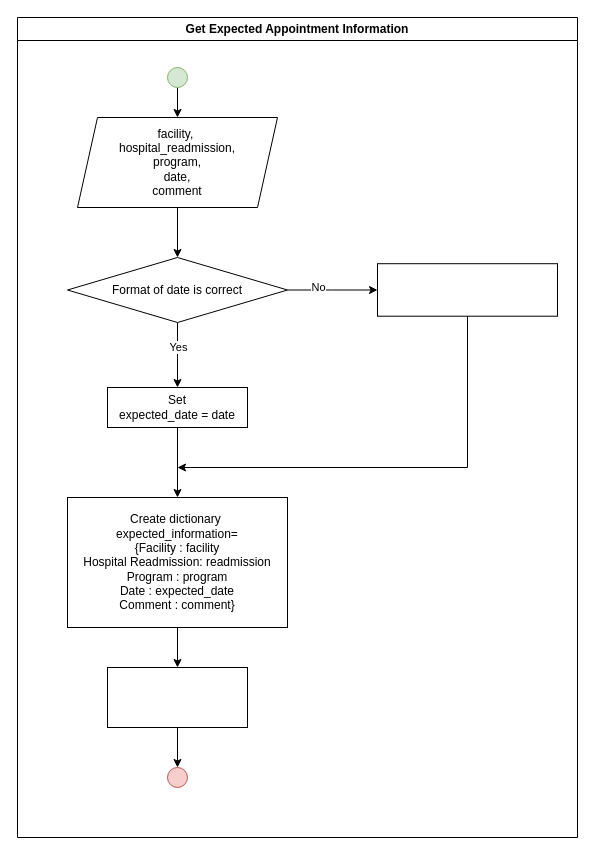
The diagram is 595 pixels wide and 855 high, and some of its shapes have lost their labels. Each missing label, with the centre of its shape:
"Return expected_information" belongs at (177,697).
"Set expected_date = current_date" belongs at (467,289).
